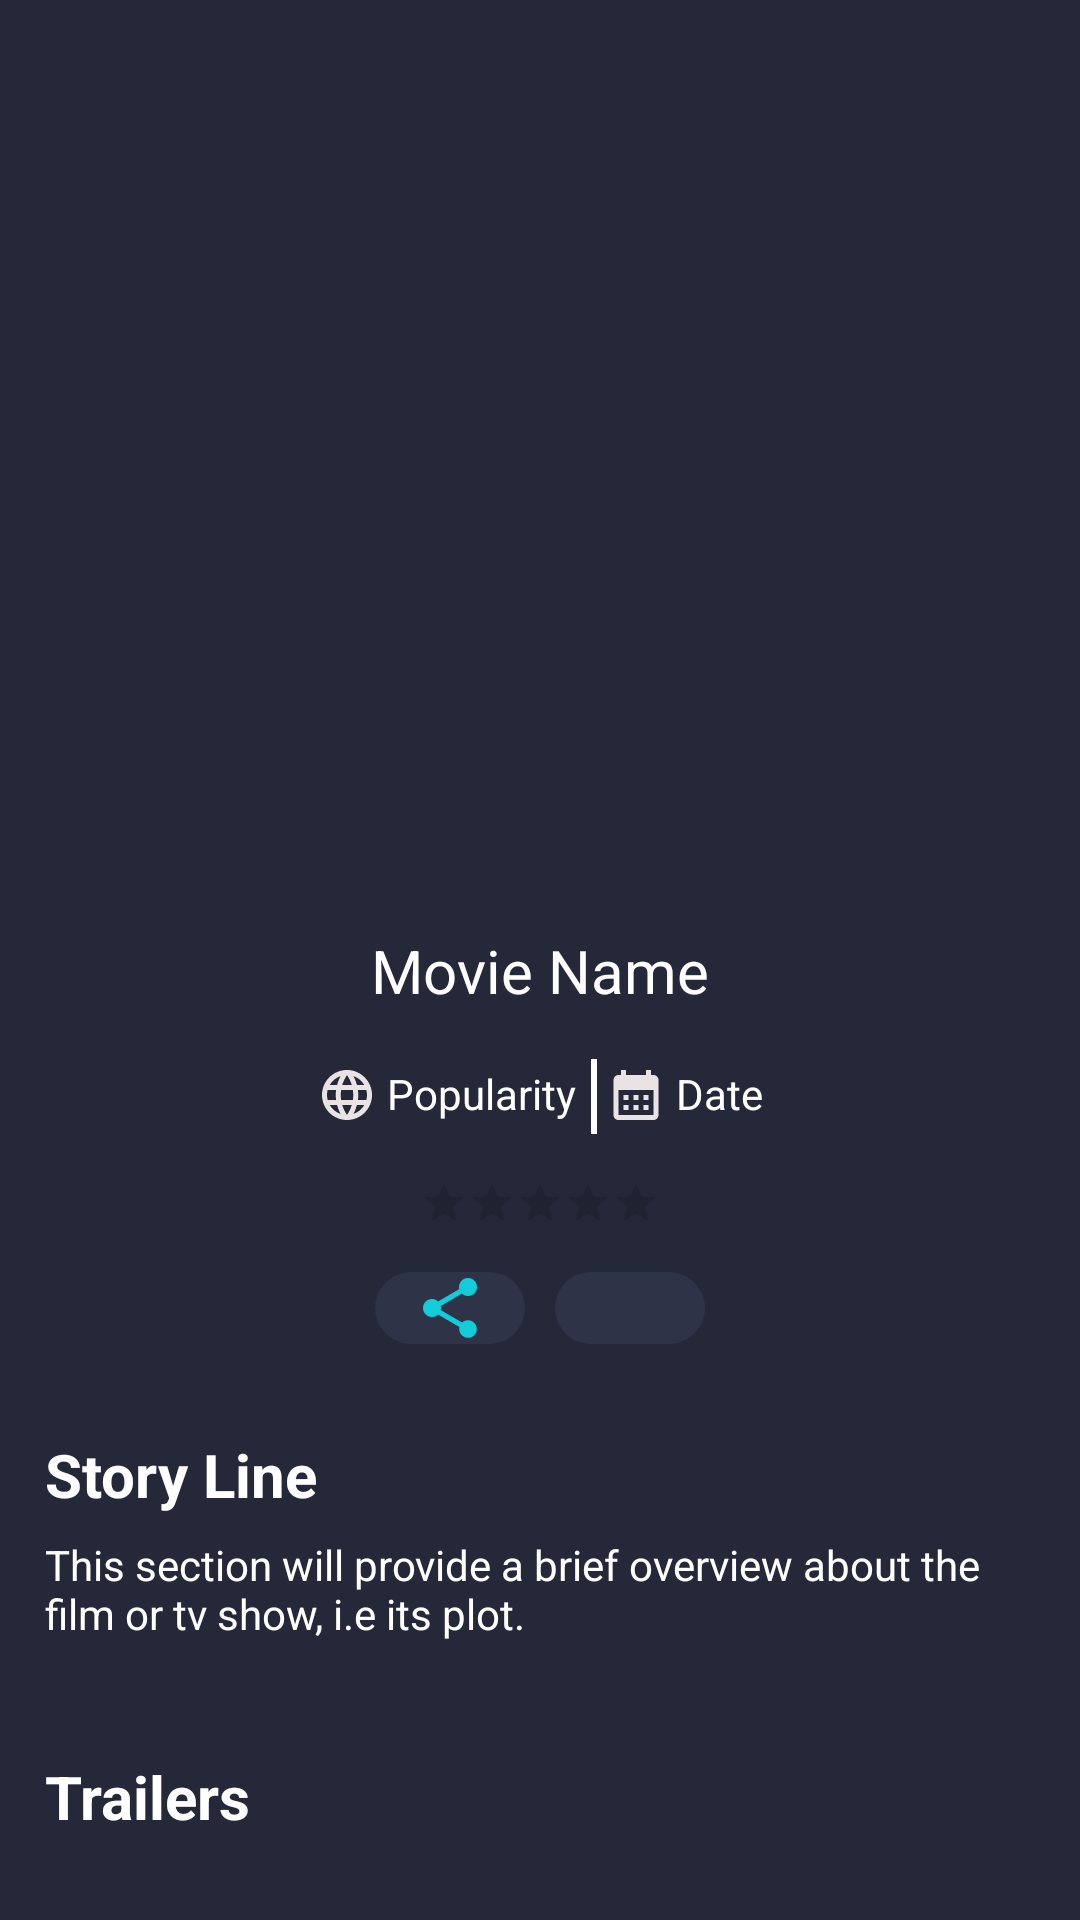

Icon bounding boxes for this 1080w x 1920h phone screenshot, format (x1, y1, x2, y2):
share: (375, 1272, 525, 1344)
